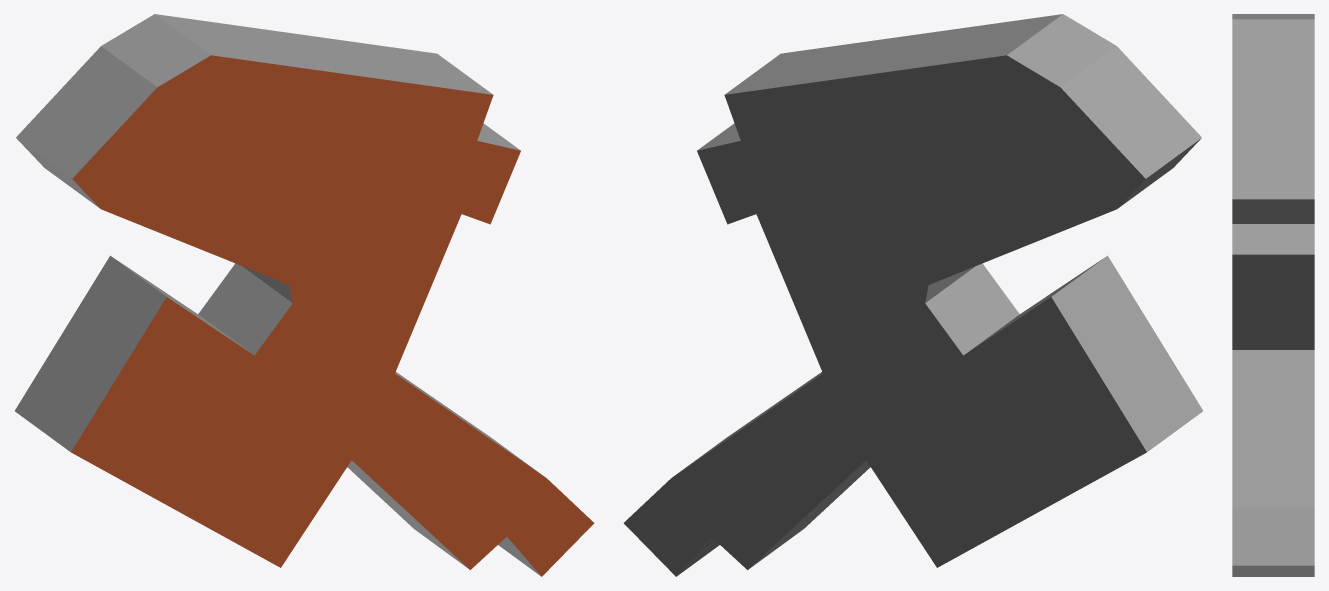
Rendered from construction_4288_assumed_A_Casa_h6m.obj.
3 renders of one model, left to right at view 1: azimuth 30°, elevation 25°; view 2: azimuth 150°, elevation 25°; view 3: azimuth 270°, elevation 25°, orthographic. The views are drawn at different scales.
Visible parts, largest first — view 1: construction_4288_assumed_A_Casa; view 2: construction_4288_assumed_A_Casa; view 3: construction_4288_assumed_A_Casa.
Boxes of the visible parts, box(x1,y1,x2,y2) form: construction_4288_assumed_A_Casa: box(15, 14, 593, 576); construction_4288_assumed_A_Casa: box(624, 14, 1202, 576); construction_4288_assumed_A_Casa: box(1232, 14, 1314, 576).
Size of the model in its own units: 32.15 by 35.34 by 6.
